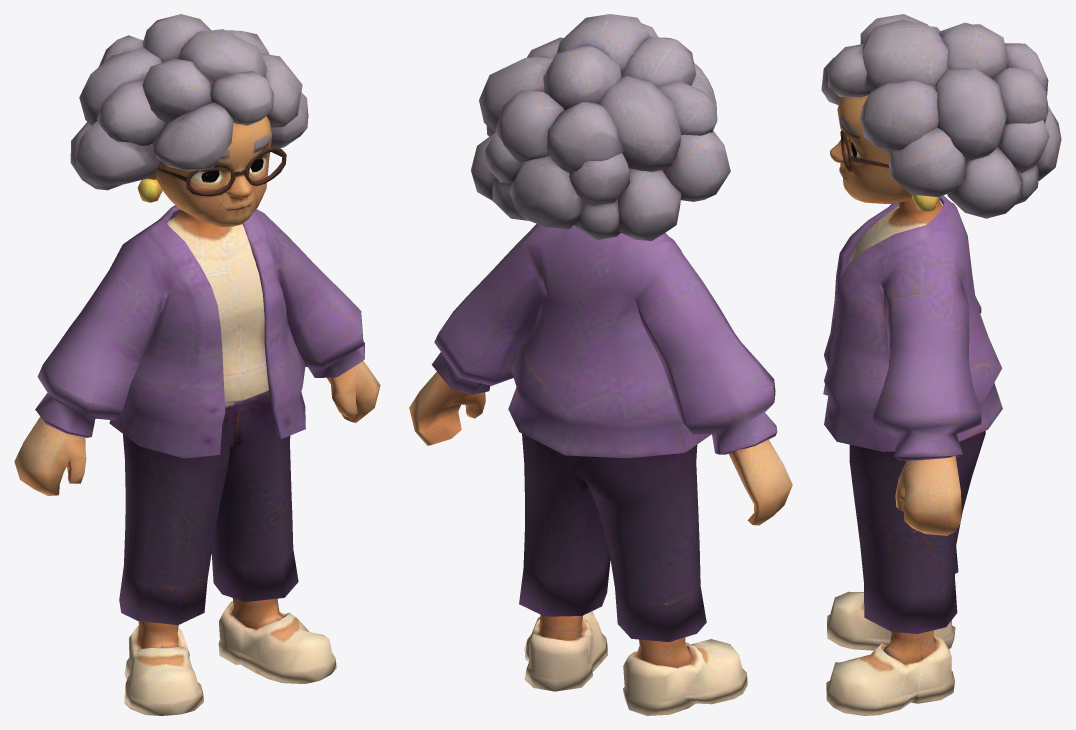
The model's file is Grandma_Violet.glb.
3 renders of one model, left to right at view 1: azimuth 30°, elevation 25°; view 2: azimuth 150°, elevation 25°; view 3: azimuth 270°, elevation 25°, orthographic. The views are drawn at different scales.
Visible parts, largest first — view 1: geometry_0; view 2: geometry_0; view 3: geometry_0.
Boxes of the visible parts, x1,y1,x2,y2 form: geometry_0: [14, 14, 380, 715]; geometry_0: [409, 14, 792, 715]; geometry_0: [821, 14, 1061, 715].
Bounding box in the file's own units: 0.5844 × 1 × 0.3392.
1 material, 1 textured.
